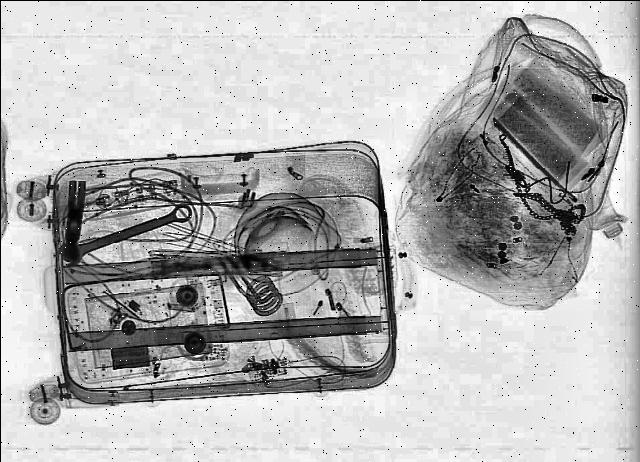Wrench: (50, 196, 200, 266)
